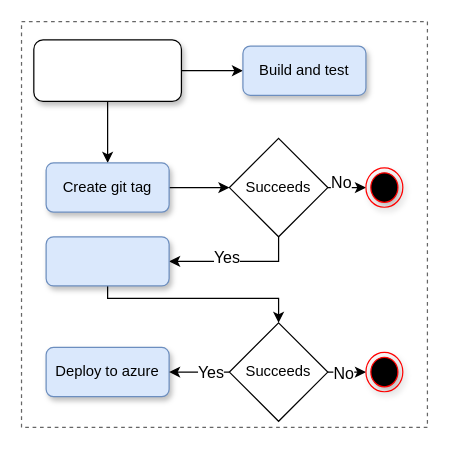
Some shapes in this 449 by 449 pixel diagram are drawn without their labels. The centre of each missing label's shape, as x and y in pixels:
"Create release" goes at pixel 108 263.
"Pull request merged with main" goes at pixel 108 72.
